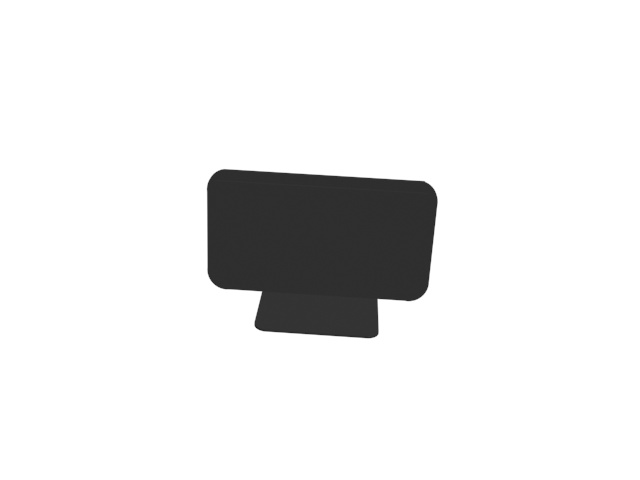monitor: (201, 169, 440, 344)
